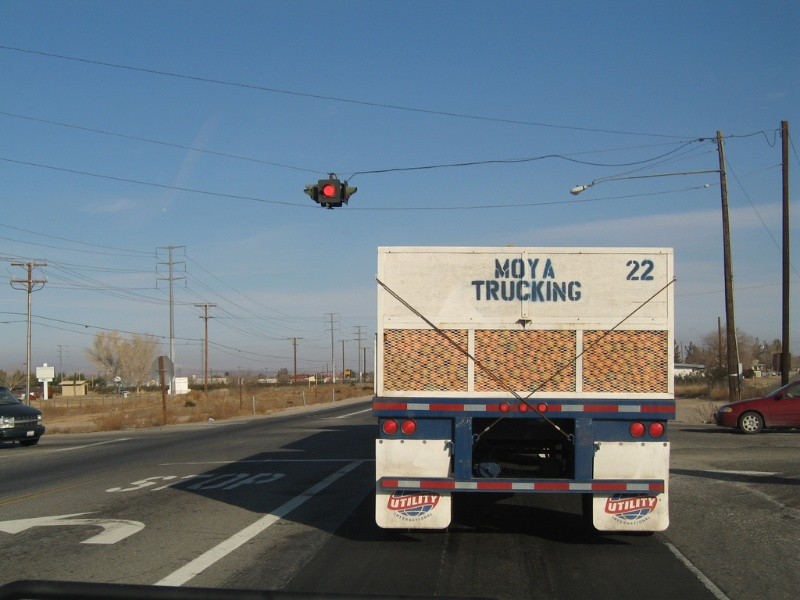red_light: (287, 173, 362, 211)
